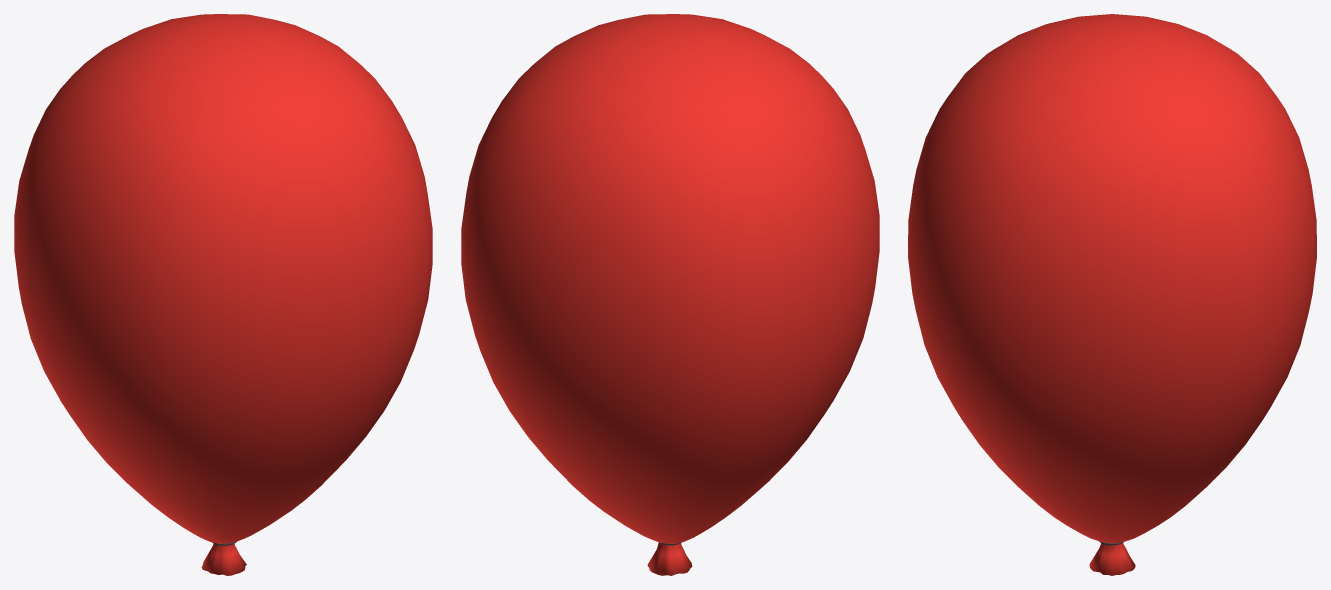
Rendered from balloon.fbx.
The picture shows the model from 3 angles, left to right: view 1: azimuth 30°, elevation 25°; view 2: azimuth 150°, elevation 25°; view 3: azimuth 270°, elevation 25°; orthographic projection.
Parts seen in each view (by area): view 1: Cube.003, Cylinder.006; view 2: Cube.003, Cylinder.006; view 3: Cube.003, Cylinder.006.
Boxes of the visible parts, <box> form: Cube.003: <box>14,14,432,543</box>; Cylinder.006: <box>201,543,246,575</box>; Cube.003: <box>461,14,879,543</box>; Cylinder.006: <box>647,542,692,575</box>; Cube.003: <box>908,14,1316,543</box>; Cylinder.006: <box>1089,543,1135,575</box>.
Size of the model in its own units: 461 by 661 by 461.
